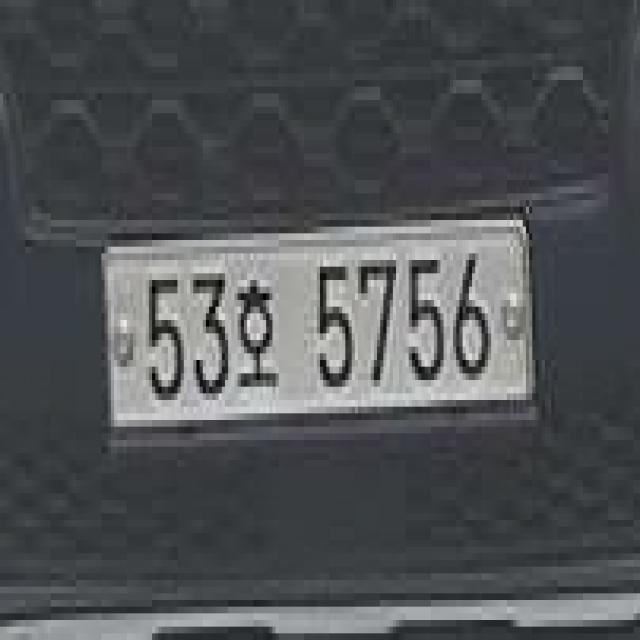3: (192, 266, 234, 409)
5: (404, 250, 448, 392), (310, 256, 351, 396), (151, 274, 187, 411)
6: (453, 250, 492, 390)
7: (358, 255, 400, 399)
ho: (237, 273, 280, 405)
license_plate: (106, 211, 541, 425)
